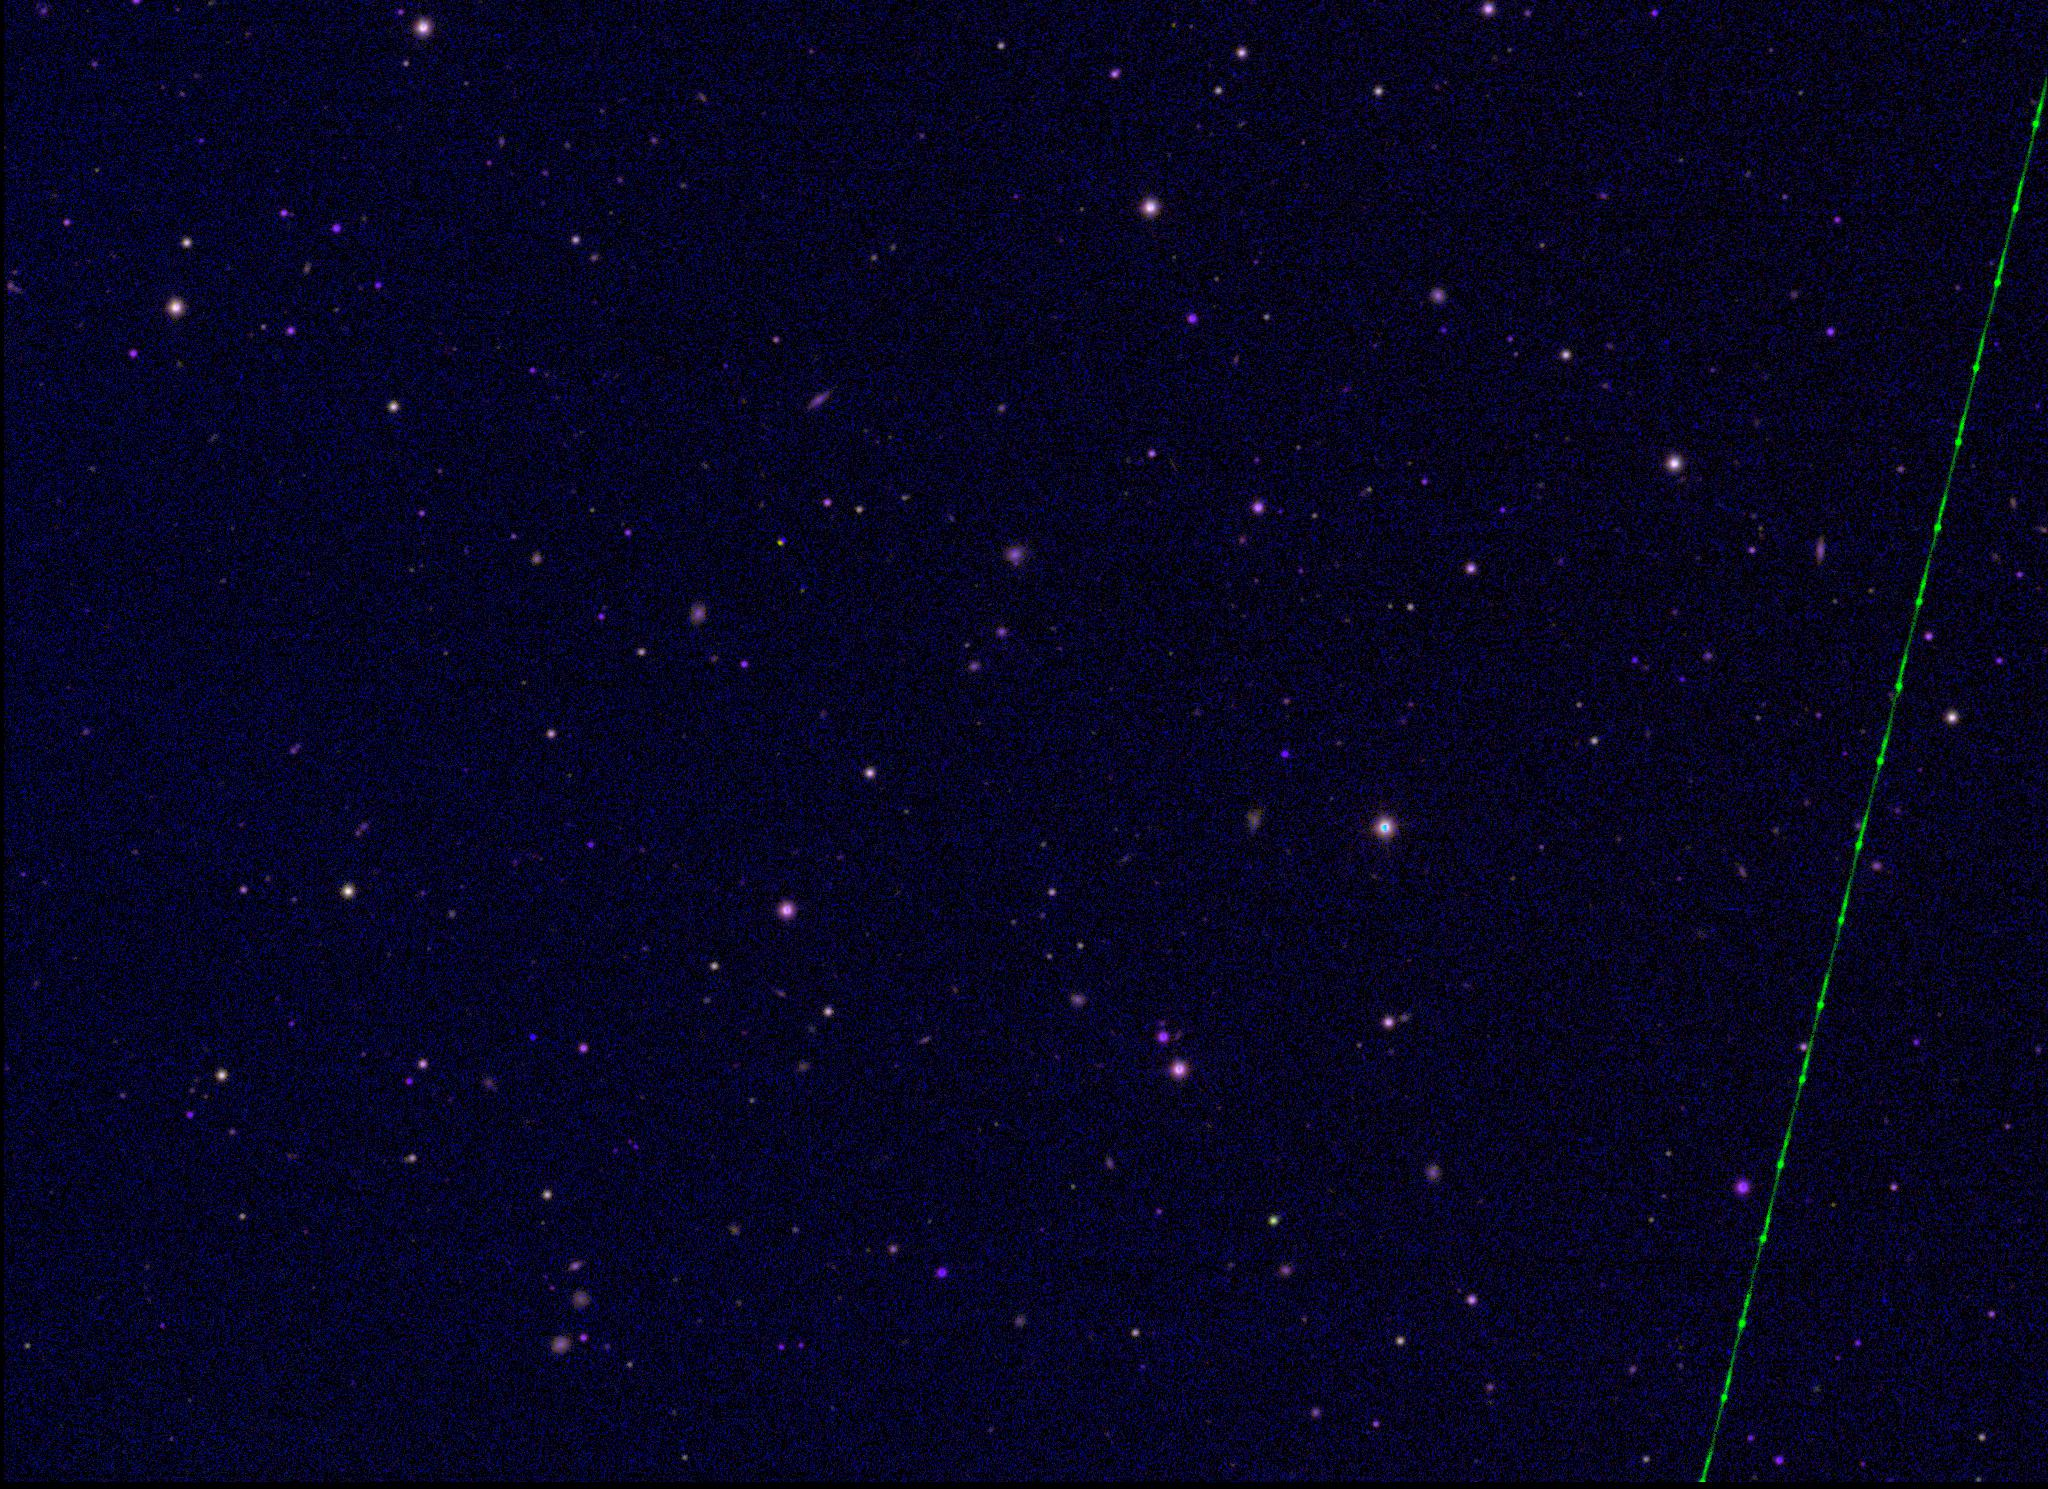L: (526, 1029, 541, 1044)
